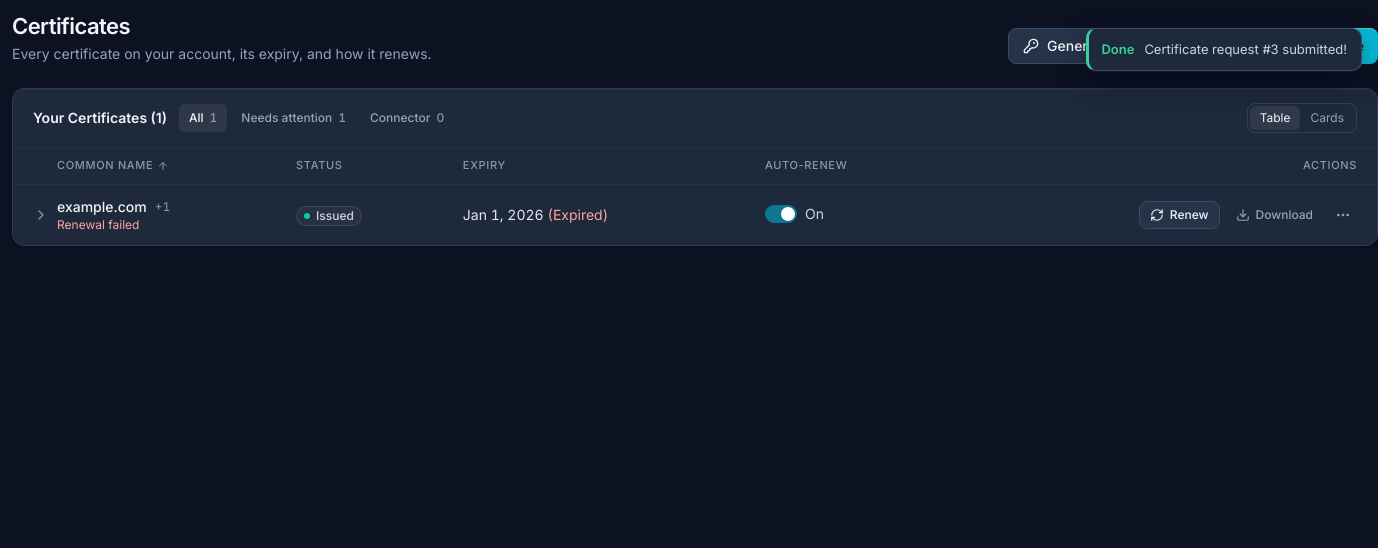
it: CertificateManagement › keeps an issued certificate usable after a failed renewal and says why
Check: the text "Renewal failed" is shown, box [57,217,139,232]
Check: the button "Download" is shown, box [1226,201,1323,229]
Click the button named "Show details" at (41, 215), box [33,207,49,223]
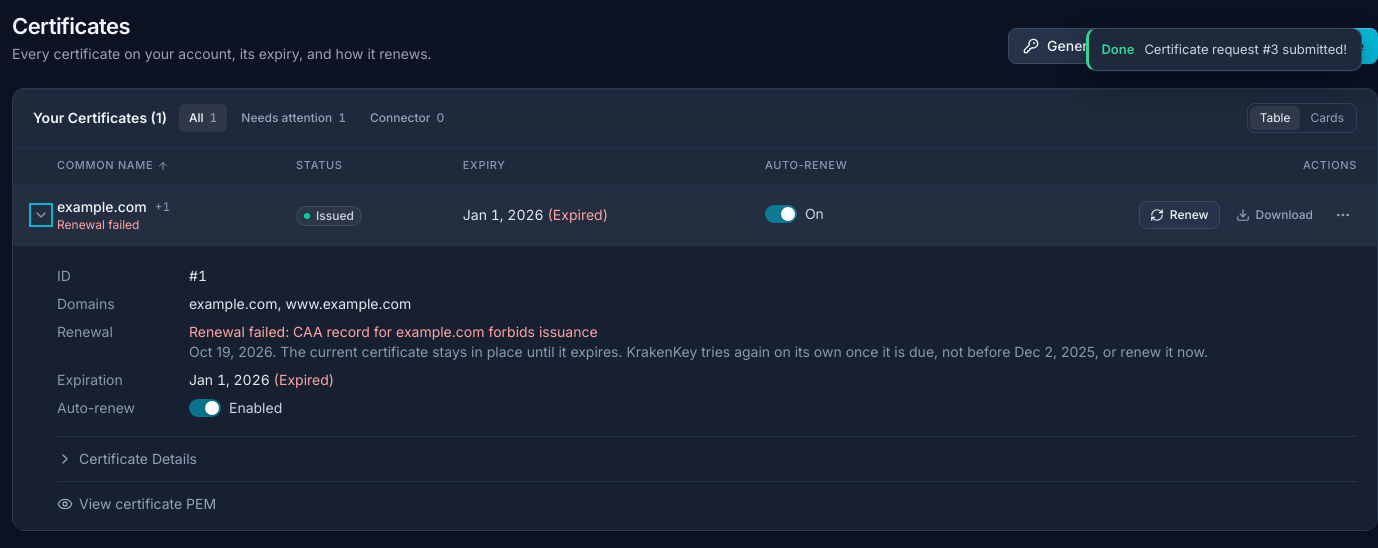
Check: the text "The current certificate stays in place" is shown, box [272,343,622,360]
